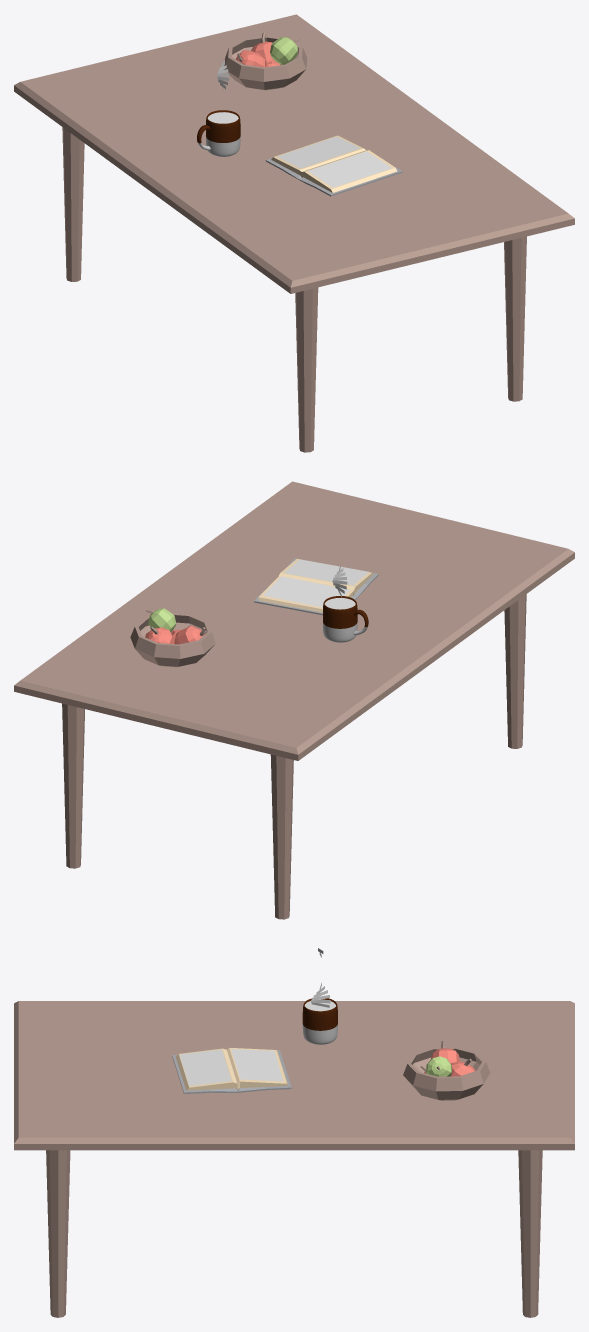
The model's file is table.glb.
The picture shows the model from 3 angles, top to bottom: view 1: azimuth 30°, elevation 25°; view 2: azimuth 150°, elevation 25°; view 3: azimuth 270°, elevation 25°; orthographic projection.
Visible parts, largest first — view 1: table, fruit_basket, open_book, mug.001, right_page_ref, left_page_ref; view 2: table, fruit_basket, mug.001, left_page_ref, open_book, right_page_ref; view 3: table, fruit_basket, open_book, mug.001, right_page_ref, left_page_ref.
Part boxes in pixels (x1,y1,x2,y2): table: [14, 14, 574, 452]; fruit_basket: [224, 32, 307, 90]; open_book: [265, 135, 402, 196]; mug.001: [197, 110, 240, 156]; right_page_ref: [308, 151, 392, 187]; left_page_ref: [277, 136, 360, 168]; table: [14, 481, 574, 919]; fruit_basket: [130, 608, 215, 667]; mug.001: [323, 596, 368, 642]; left_page_ref: [263, 576, 349, 607]; open_book: [254, 558, 378, 615]; right_page_ref: [284, 559, 368, 585]; table: [14, 1001, 574, 1317]; fruit_basket: [403, 1041, 490, 1100]; open_book: [172, 1047, 291, 1093]; mug.001: [302, 998, 337, 1044]; right_page_ref: [179, 1049, 231, 1085]; left_page_ref: [231, 1049, 283, 1081].
Bounding box in the file's own units: 11.74 × 11.08 × 19.8.
